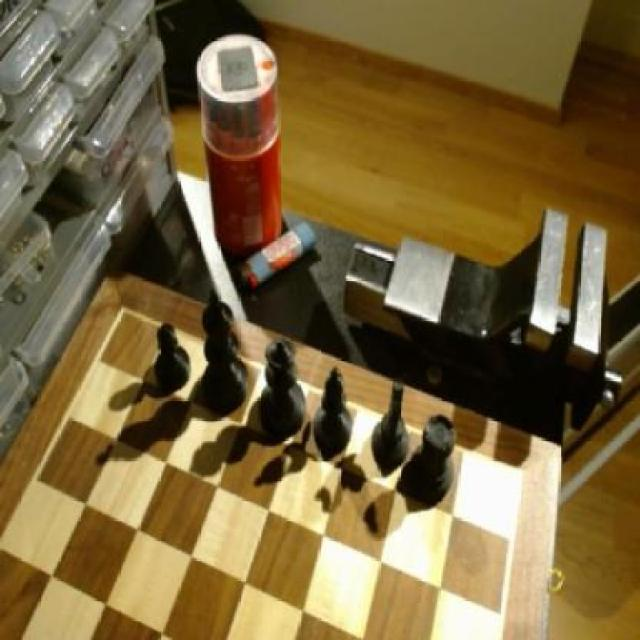bishop: (311, 361, 354, 457)
black-bishop: (200, 291, 254, 414)
black-king: (369, 374, 413, 474)
black-knight: (151, 320, 195, 388)
black-pawn: (252, 332, 308, 436)
black-queen: (416, 409, 466, 502)
